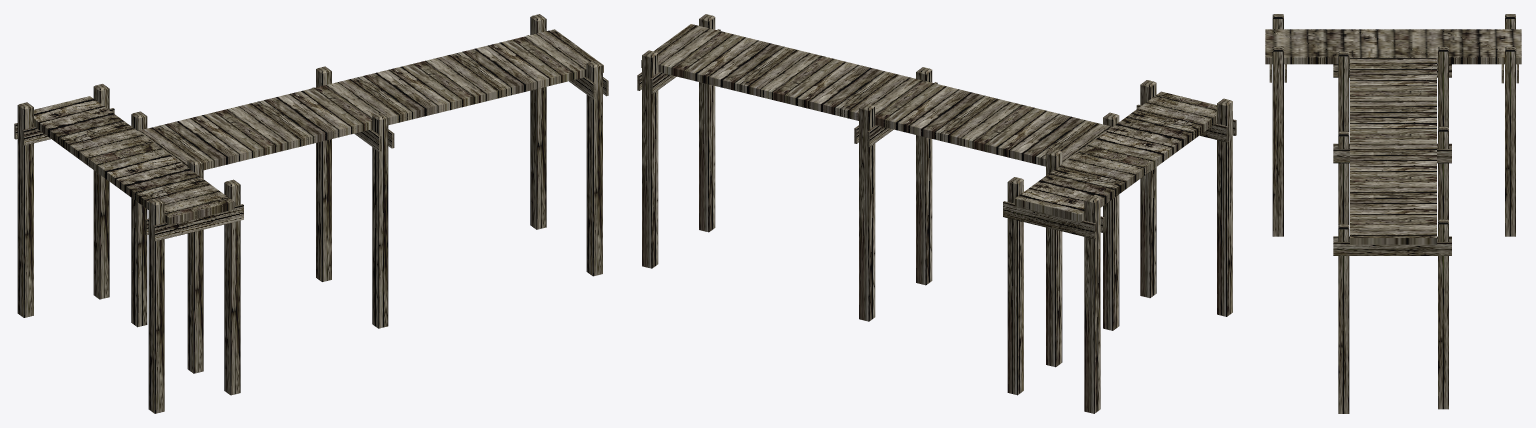
File: bridge.fbx
3 renders of one model, left to right at view 1: azimuth 30°, elevation 25°; view 2: azimuth 150°, elevation 25°; view 3: azimuth 270°, elevation 25°, orthographic. The views are drawn at different scales.
Parts seen in each view (by area): view 1: polySurface4; view 2: polySurface4; view 3: polySurface4.
Boxes of the visible parts, <box> form: polySurface4: <box>14,14,608,413</box>; polySurface4: <box>637,14,1236,413</box>; polySurface4: <box>1265,14,1521,413</box>.
Bounding box in the file's own units: 23.33 × 9.71 × 11.82.
